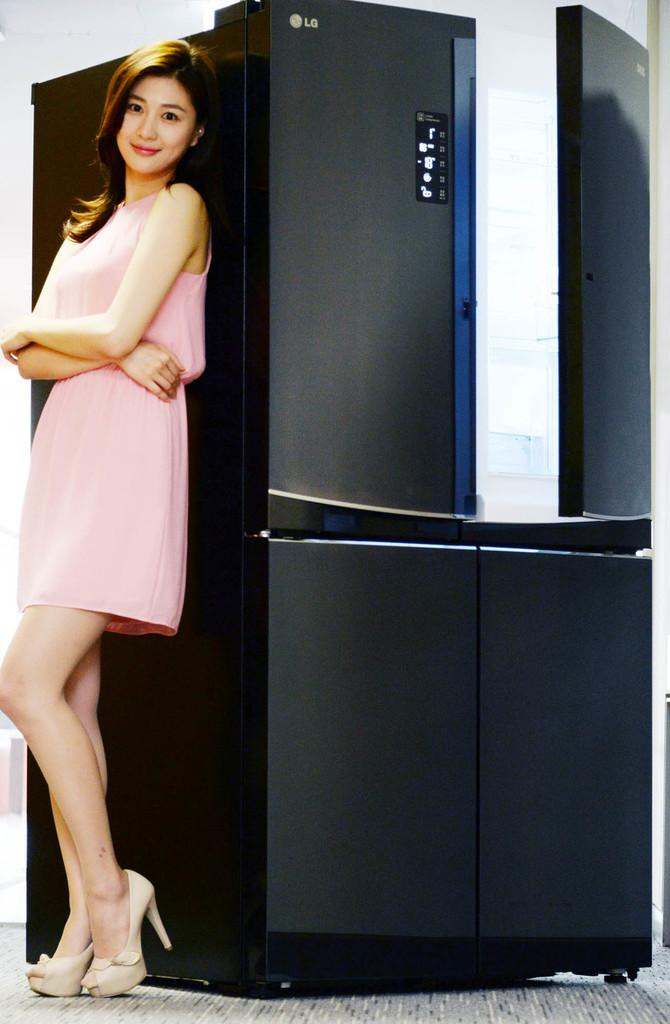handle: (264, 481, 477, 563), (476, 500, 652, 574)
